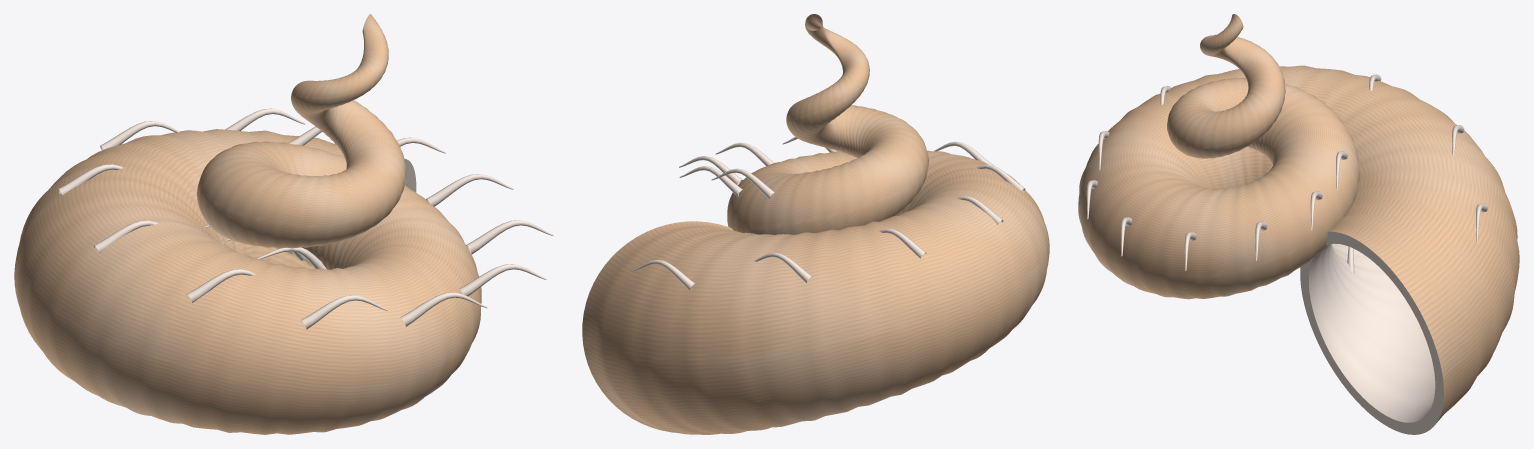
Rendered from venus-comb.glb.
The picture shows the model from 3 angles, left to right: view 1: azimuth 30°, elevation 25°; view 2: azimuth 150°, elevation 25°; view 3: azimuth 270°, elevation 25°; orthographic projection. The views are drawn at different scales.
Parts seen in each view (by area): view 1: venus-comb.001; view 2: venus-comb.001; view 3: venus-comb.001.
Part boxes in pixels (bbox=[...]): venus-comb.001: bbox=[14, 14, 553, 434]; venus-comb.001: bbox=[582, 14, 1049, 434]; venus-comb.001: bbox=[1078, 14, 1519, 434].
Size of the model in its own units: 1.54 by 1.53 by 1.57.
Materials: 27 (1 with a texture image).
